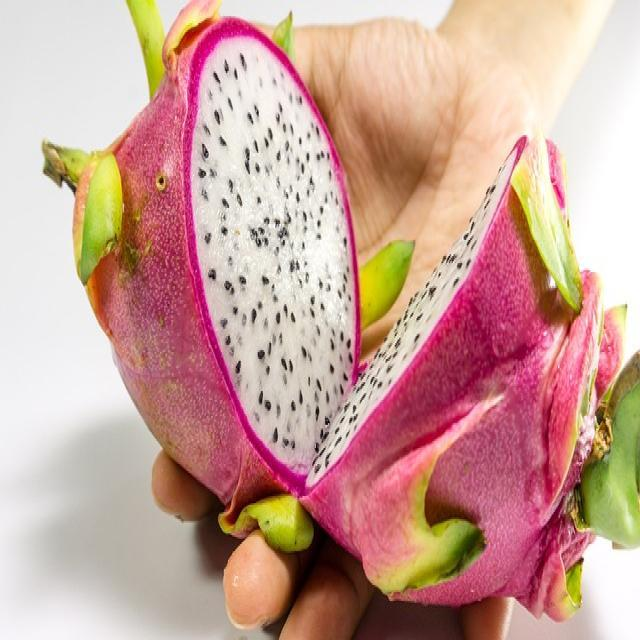dragon-fruit: (71, 14, 364, 507), (297, 132, 598, 610)
